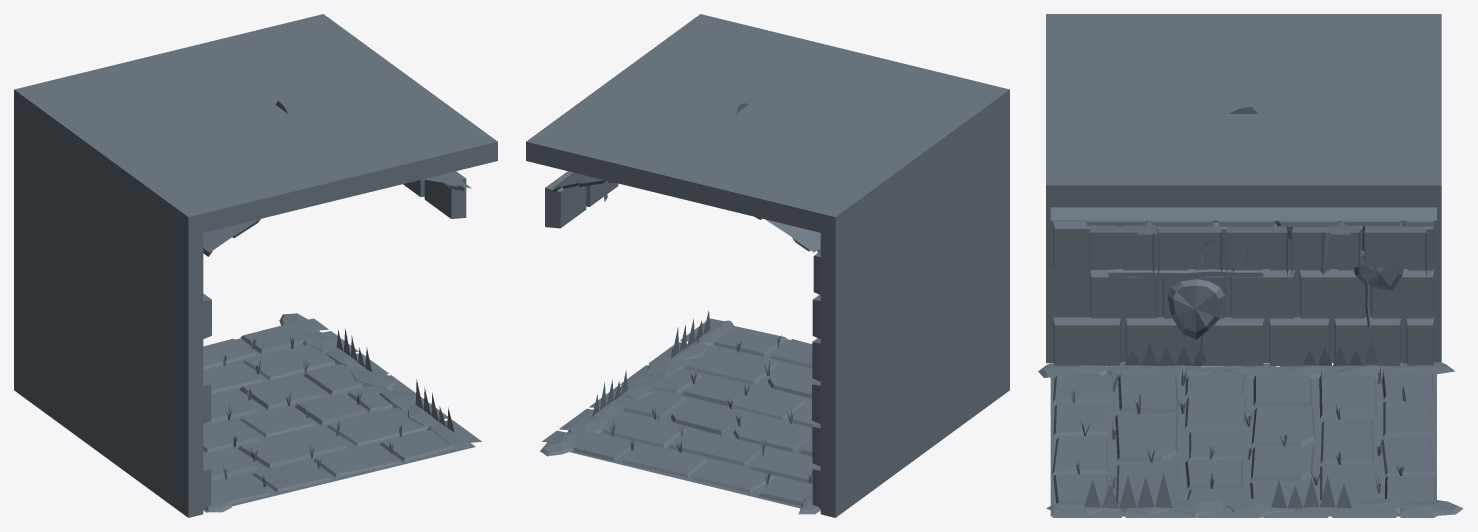
The model's file is tile_straight_edge.glb.
The picture shows the model from 3 angles, left to right: view 1: azimuth 30°, elevation 25°; view 2: azimuth 150°, elevation 25°; view 3: azimuth 270°, elevation 25°; orthographic projection. The views are drawn at different scales.
Parts seen in each view (by area): view 1: Tile_Straight_Wall; view 2: Tile_Straight_Wall; view 3: Tile_Straight_Wall.
Part boxes in pixels (x1,y1,x2,y2): Tile_Straight_Wall: [14, 14, 497, 517]; Tile_Straight_Wall: [526, 14, 1009, 517]; Tile_Straight_Wall: [1038, 14, 1463, 517].
Size of the model in its own units: 4.2 by 4 by 4.41.
